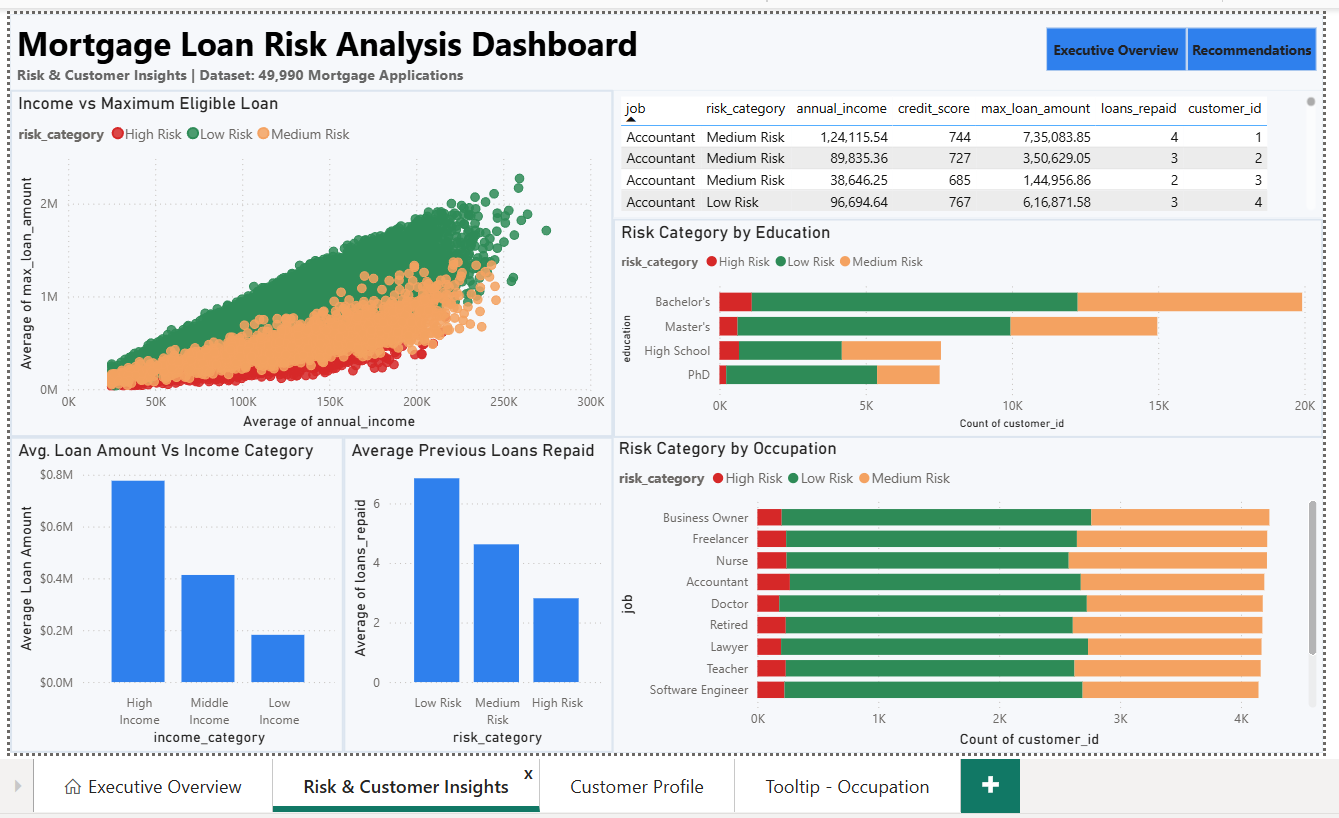

The page's visual inventory and layout, read from the dashboard file:
{"tool":"powerbi","page":{"name":"Risk & Customer Insights","canvas":[1280,720],"ordinal":1},"visuals":[{"type":"textbox","box":[0,0,1280,89.3],"z":0},{"type":"scatterChart","title":"Income vs Maximum Eligible Loan","fields":{"Series":["mortgage.risk_category"],"Y":["Avg(mortgage.max_loan_amount)"],"X":["Avg(mortgage.annual_income)"],"Category":["mortgage.customer_id"]},"box":[0,74.1,587.8,338.5],"z":1000},{"type":"columnChart","title":"Average Previous Loans Repaid","fields":{"Category":["mortgage.risk_category"],"Y":["Avg(mortgage.loans_repaid)"]},"box":[325.2,411.9,263.2,308.1],"z":2000},{"type":"barChart","title":"Risk Category by Occupation","fields":{"Series":["mortgage.risk_category"],"Category":["mortgage.job"],"Y":["CountNonNull(mortgage.customer_id)"]},"box":[587.8,412.6,692.2,308.2],"z":3000},{"type":"barChart","title":"Risk Category by Education","fields":{"Series":["mortgage.risk_category"],"Y":["CountNonNull(mortgage.customer_id)"],"Category":["mortgage.education"]},"box":[587.8,198.7,692.2,213.9],"z":4000},{"type":"columnChart","title":"Avg. Loan Amount Vs Income Category","fields":{"Category":["mortgage.income_category"],"Y":["mortgage.Average Loan Amount"]},"box":[0,411.9,325.2,308.1],"z":5000},{"type":"tableEx","fields":{"Values":["mortgage.job","mortgage.risk_category","mortgage.annual_income","mortgage.credit_score","mortgage.max_loan_amount","mortgage.loans_repaid","mortgage.customer_id"]},"box":[587.8,74.1,692.2,124.6],"z":6000},{"type":"actionButton","title":"Executive Overview","box":[1010.7,13.2,136.4,42.1],"z":7000},{"type":"actionButton","title":"Recommendations","box":[1146.9,13.2,126.3,42.1],"z":8000}]}

Visuals, with their boxes on the page's 1280x720 design canvas (x1, y1, x2, y2). These are canvas units, not pixel positions in the 1339x818 screenshot, which may show the page scaled, cropped or inside an application window:
textbox: {"x1": 0, "y1": 0, "x2": 1280, "y2": 89}
"Income vs Maximum Eligible Loan" scatterChart: {"x1": 0, "y1": 74, "x2": 588, "y2": 413}
"Average Previous Loans Repaid" columnChart: {"x1": 325, "y1": 412, "x2": 588, "y2": 720}
"Risk Category by Occupation" barChart: {"x1": 588, "y1": 413, "x2": 1280, "y2": 721}
"Risk Category by Education" barChart: {"x1": 588, "y1": 199, "x2": 1280, "y2": 413}
"Avg. Loan Amount Vs Income Category" columnChart: {"x1": 0, "y1": 412, "x2": 325, "y2": 720}
tableEx - mortgage.job x mortgage.risk_category: {"x1": 588, "y1": 74, "x2": 1280, "y2": 199}
"Executive Overview" actionButton: {"x1": 1011, "y1": 13, "x2": 1147, "y2": 55}
"Recommendations" actionButton: {"x1": 1147, "y1": 13, "x2": 1273, "y2": 55}
